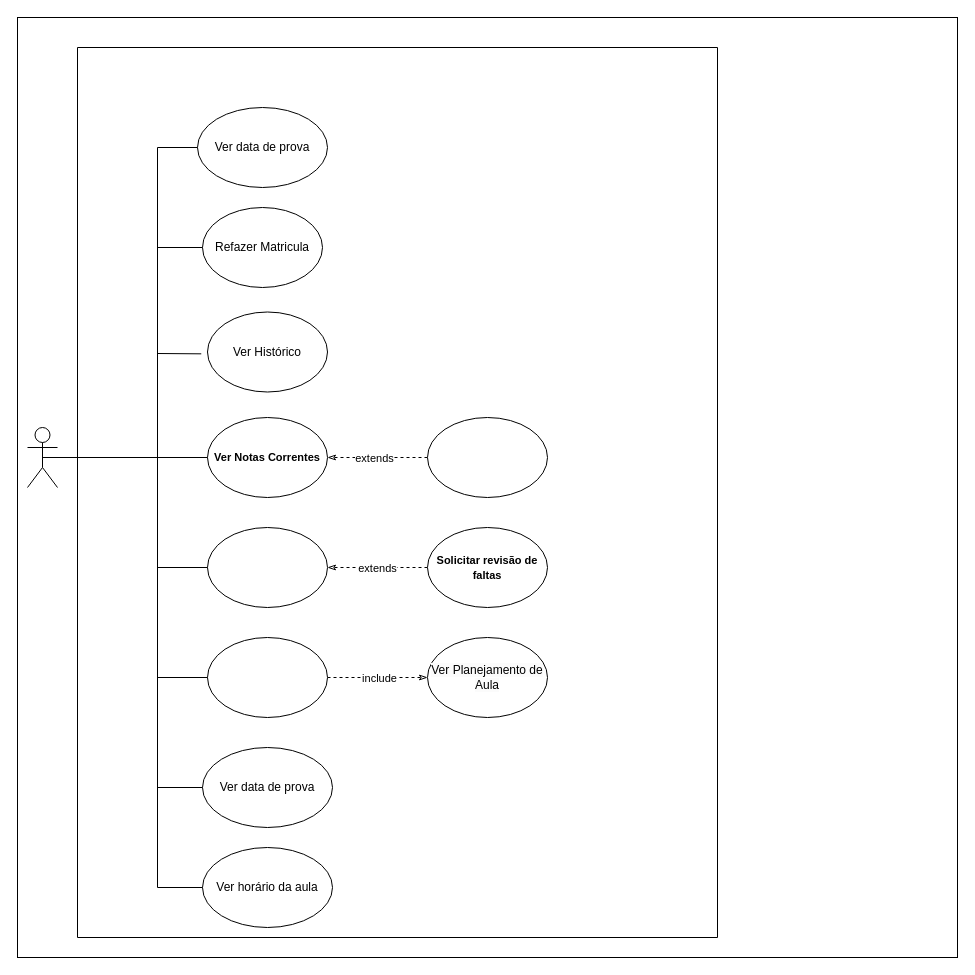
The diagram is 975 pixels wide and 975 high, and some of its shapes have lost their labels. The box of each missing label's shape, as (x1, y1, x2, y2) in pixels:
Aluno: (26, 426, 58, 488)
Solicitar Revisão de Notas: (426, 416, 548, 498)
Ver Disciplinas correntes: (206, 636, 328, 718)
Ver Faltas Correntes: (206, 526, 328, 608)
